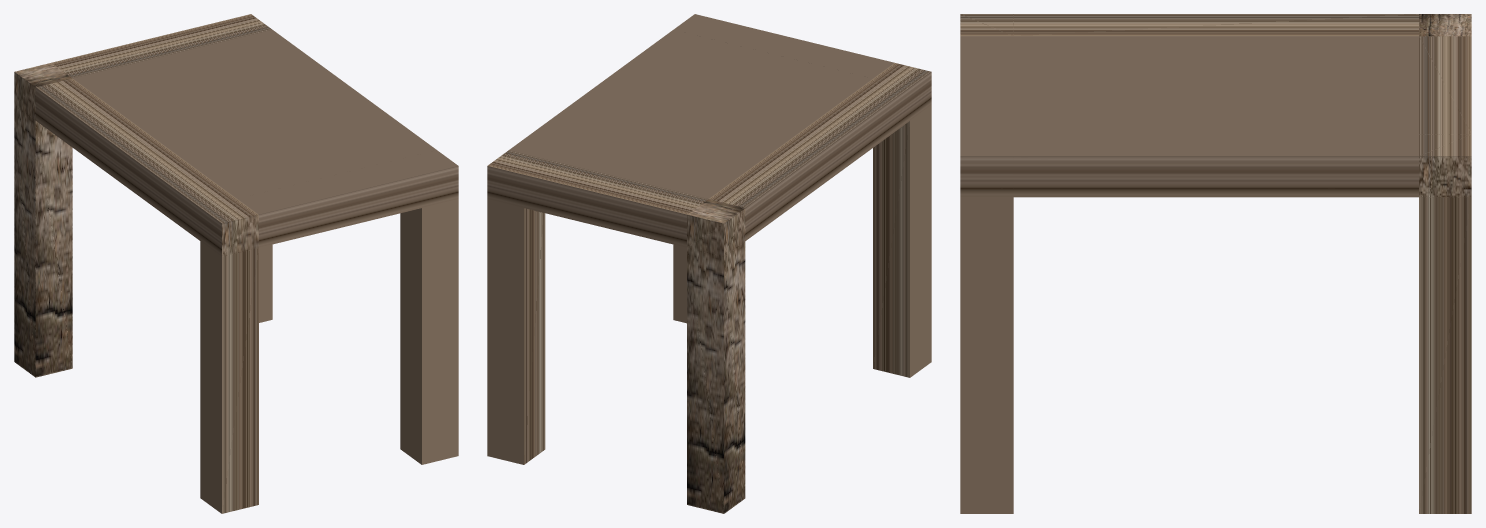
The model's file is tafel.FBX.
3 renders of one model, left to right at view 1: azimuth 30°, elevation 25°; view 2: azimuth 150°, elevation 25°; view 3: azimuth 270°, elevation 25°, orthographic. The views are drawn at different scales.
Visible parts, largest first — view 1: Box001; view 2: Box001; view 3: Box001.
Part boxes in pixels (x1,y1,x2,y2): Box001: [14, 14, 458, 513]; Box001: [487, 14, 931, 513]; Box001: [960, 14, 1471, 513].
Bounding box in the file's own units: 12.81 × 15 × 19.44.
1 material, 1 textured.
